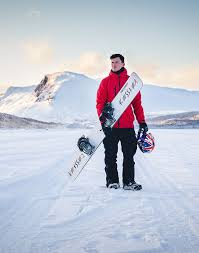snowboard: (63, 71, 145, 184)
